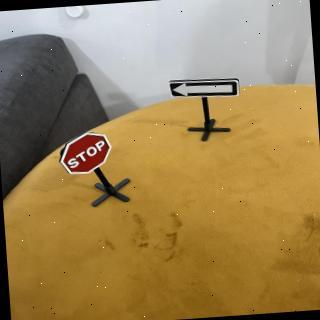sign_oneway_left: (167, 76, 241, 104)
sign_stop: (57, 127, 115, 178)
